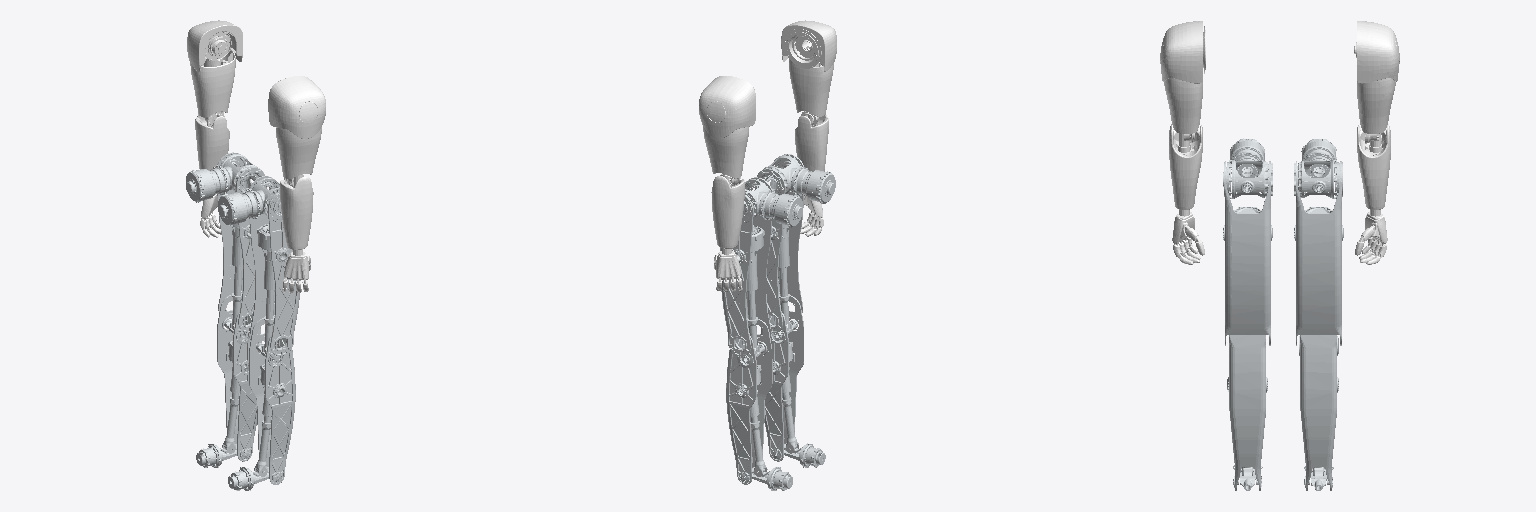
The robot description file, URDF, robot "jumping_robot_ry":
<?xml version="1.0" encoding="utf-8"?>
<!-- This URDF was automatically created by SolidWorks to URDF Exporter! Originally created by [author] ([email redacted]) 
     Commit Version: 1.6.0-1-g15f4949  Build Version: 1.6.7594.29634
     For more information, please see http://wiki.ros.org/sw_urdf_exporter -->
<robot
  name="jumping_robot_ry">


  <link
    name="trunk">
    <inertial>
      <origin
        xyz="-0.00534187421003305 0.00675403772049716 0.11861929306466"
        rpy="0 0 0" />
      <mass
        value="20.9913292790793" />
      <inertia
        ixx="0.148687583146669"
        ixy="1.44334501358702E-05"
        ixz="0.000481125697587423"
        iyy="0.0853076437183973"
        iyz="7.39327481754481E-05"
        izz="0.167987780612291" />
    </inertial>
    <visual>
      <origin
        xyz="0 0 0"
        rpy="0 0 0" />
      <geometry>
        <mesh
          filename="package://jumping_robot_ry/meshes/trunk.STL" />
      </geometry>
      <material
        name="">
        <color
          rgba="0.898039215686275 0.917647058823529 0.929411764705882 1" />
      </material>
    </visual>
    <!--collision>
      <origin
        xyz="0 0 0"
        rpy="0 0 0" />
      <geometry>
        <mesh
          filename="package://jumping_robot_ry/meshes/trunk.STL" />
      </geometry>
    </collision-->
  </link>
  <link
    name="arm_left">
    <inertial>
      <origin
        xyz="0.17129877806023 0.000442710996981722 0.00603783167995214"
        rpy="0 0 0" />
      <mass
        value="1.52221564938983" />
      <inertia
        ixx="0.00234673757443052"
        ixy="-3.97819853083177E-05"
        ixz="9.20794087459447E-05"
        iyy="0.00356004785927338"
        iyz="5.93569290406546E-07"
        izz="0.00422659625710183" />
    </inertial>
    <visual>
      <origin
        xyz="0 0 0"
        rpy="0 0 0" />
      <geometry>
        <mesh
          filename="package://jumping_robot_ry/meshes/arm_left.STL" />
      </geometry>
      <material
        name="">
        <color
          rgba="1 1 1 1" />
      </material>
    </visual>
    <!--collision>
      <origin
        xyz="0 0 0"
        rpy="0 0 0" />
      <geometry>
        <mesh
          filename="package://jumping_robot_ry/meshes/arm_left.STL" />
      </geometry>
    </collision-->
  </link>
  <joint
    name="shoulder_left"
    type="revolute">
    <origin
      xyz="-0.0101075147782717 0.257795843052775 0.165349999885798"
      rpy="-1.5707963267949 1.56712606042027 3.14159265358979" />
    <parent
      link="trunk" />
    <child
      link="arm_left" />
    <axis
      xyz="0 0 1" />
    <limit
      lower="-3.14"
      upper="3.14"
      effort="180"
      velocity="23.14" />
  </joint>
  <link
    name="arm_right">
    <inertial>
      <origin
        xyz="0.170556163823836 0.000375216296787542 -0.00633364188324859"
        rpy="0 0 0" />
      <mass
        value="1.52899552470419" />
      <inertia
        ixx="0.00234262157900753"
        ixy="-3.9198572572838E-05"
        ixz="-9.14877718499417E-05"
        iyy="0.00355935721293376"
        iyz="9.72463093561941E-07"
        izz="0.00422289490261943" />
    </inertial>
    <visual>
      <origin
        xyz="0 0 0"
        rpy="0 0 0" />
      <geometry>
        <mesh
          filename="package://jumping_robot_ry/meshes/arm_right.STL" />
      </geometry>
      <material
        name="">
        <color
          rgba="1 1 1 1" />
      </material>
    </visual>
    <!--collision>
      <origin
        xyz="0 0 0"
        rpy="0 0 0" />
      <geometry>
        <mesh
          filename="package://jumping_robot_ry/meshes/arm_right.STL" />
      </geometry>
    </collision-->
  </link>
  <joint
    name="shoulder_right"
    type="revolute">
    <origin
      xyz="-0.0101075147782718 -0.257199156940497 0.165349999885798"
      rpy="-1.5707963267949 1.56712606042021 3.14159265358979" />
    <parent
      link="trunk" />
    <child
      link="arm_right" />
    <axis
      xyz="0 0 -1" />
    <limit
      lower="-3.14"
      upper="3.14"
      effort="180"
      velocity="23.14" />
  </joint>
  <link
    name="hip_left">
    <inertial>
      <origin
        xyz="0.000264789253374809 0.00227805357561411 -0.0517419332665672"
        rpy="0 0 0" />
      <mass
        value="2.77226286740998" />
      <inertia
        ixx="0.0023049484140908"
        ixy="-1.09491711506034E-06"
        ixz="-1.89821568178048E-06"
        iyy="0.00278714724661066"
        iyz="1.49357955164055E-05"
        izz="0.00265411614232658" />
    </inertial>
    <visual>
      <origin
        xyz="0 0 0"
        rpy="0 0 0" />
      <geometry>
        <mesh
          filename="package://jumping_robot_ry/meshes/hip_left.STL" />
      </geometry>
      <material
        name="">
        <color
          rgba="0.898039215686275 0.917647058823529 0.929411764705882 1" />
      </material>
    </visual>
    <!--collision>
      <origin
        xyz="0 0 0"
        rpy="0 0 0" />
      <geometry>
        <mesh
          filename="package://jumping_robot_ry/meshes/hip_left.STL" />
      </geometry>
    </collision-->
  </link>
  <joint
    name="hip_left_x"
    type="revolute">
    <origin
      xyz="-0.000306223726313573 0.105707340365802 -0.214000000121042"
      rpy="-2.74895393765495 1.56498843183028 -2.74895989990149" />
    <parent
      link="trunk" />
    <child
      link="hip_left" />
    <axis
      xyz="0.00536591255347294 0 -0.999985603387603" />
    <limit
      lower="-3.14"
      upper="3.14"
      effort="180"
      velocity="23.14" />
  </joint>
  <link
    name="thigh_left">
    <inertial>
      <origin
        xyz="0.204287895415817 0.0124777468787662 0.000500837159686032"
        rpy="0 0 0" />
      <mass
        value="2.24457308468349" />
      <inertia
        ixx="0.00442080408642017"
        ixy="-0.000245782570070354"
        ixz="4.50972346570301E-05"
        iyy="0.0213102863092215"
        iyz="3.30972136111353E-06"
        izz="0.020009524590657" />
    </inertial>
    <visual>
      <origin
        xyz="0 0 0"
        rpy="0 0 0" />
      <geometry>
        <mesh
          filename="package://jumping_robot_ry/meshes/thigh_left.STL" />
      </geometry>
      <material
        name="">
        <color
          rgba="0.898039215686275 0.917647058823529 0.929411764705882 1" />
      </material>
    </visual>
    <!--collision>
      <origin
        xyz="0 0 0"
        rpy="0 0 0" />
      <geometry>
        <mesh
          filename="package://jumping_robot_ry/meshes/thigh_left.STL" />
      </geometry>
    </collision-->
  </link>
  <joint
    name="hip_left_y"
    type="revolute">
    <origin
      xyz="0 0 0"
      rpy="1.57078440237293 0 0" />
    <parent
      link="hip_left" />
    <child
      link="thigh_left" />
    <axis
      xyz="0.00222221677924413 0 0.999997530873244" />
    <limit
      lower="-3.14"
      upper="3.14"
      effort="180"
      velocity="23.14" />
  </joint>
  <link
    name="calf_left">
    <inertial>
      <origin
        xyz="0.181032784199706 0.00565154362853779 -0.00098246193057594"
        rpy="0 0 0" />
      <mass
        value="1.75714585360334" />
      <inertia
        ixx="0.0024402417815786"
        ixy="4.6598038769428E-05"
        ixz="4.37580326523052E-06"
        iyy="0.0176434835873506"
        iyz="6.29877407417103E-07"
        izz="0.0171561338288248" />
    </inertial>
    <visual>
      <origin
        xyz="0 0 0"
        rpy="0 0 0" />
      <geometry>
        <mesh
          filename="package://jumping_robot_ry/meshes/calf_left.STL" />
      </geometry>
      <material
        name="">
        <color
          rgba="0.898039215686275 0.917647058823529 0.929411764705882 1" />
      </material>
    </visual>
    <!--collision>
      <origin
        xyz="0 0 0"
        rpy="0 0 0" />
      <geometry>
        <mesh
          filename="package://jumping_robot_ry/meshes/calf_left.STL" />
      </geometry>
    </collision-->
  </link>
  <joint
    name="knee_left"
    type="revolute">
    <origin
      xyz="0.45000111110981 0 0"
      rpy="0 0.00222221714763328 0.00114653302611344" />
    <parent
      link="thigh_left" />
    <child
      link="calf_left" />
    <axis
      xyz="0 0 1" />
    <limit
      lower="-3.14"
      upper="3.14"
      effort="180"
      velocity="23.14" />
  </joint>
  <link
    name="ankle_left">
    <inertial>
      <origin
        xyz="-0.000291440769667146 -0.0684593324204074 -0.000437809199314396"
        rpy="0 0 0" />
      <mass
        value="0.426454571289873" />
      <inertia
        ixx="0.000255094335803803"
        ixy="-1.25868946739572E-06"
        ixz="-2.10382379615869E-07"
        iyy="0.000154854293219585"
        iyz="1.04671610648939E-07"
        izz="0.000252474732545182" />
    </inertial>
    <visual>
      <origin
        xyz="0 0 0"
        rpy="0 0 0" />
      <geometry>
        <mesh
          filename="package://jumping_robot_ry/meshes/ankle_left.STL" />
      </geometry>
      <material
        name="">
        <color
          rgba="0.898039215686275 0.917647058823529 0.929411764705882 1" />
      </material>
    </visual>
    <!--collision>
      <origin
        xyz="0 0 0"
        rpy="0 0 0" />
      <geometry>
        <mesh
          filename="package://jumping_robot_ry/meshes/ankle_left.STL" />
      </geometry>
    </collision-->
  </link>
  <joint
    name="ankle_left_y"
    type="revolute">
    <origin
      xyz="0.449999999999998 0 0"
      rpy="0 0 -2.45516141042258E-05" />
    <parent
      link="calf_left" />
    <child
      link="ankle_left" />
    <axis
      xyz="0 0 -1" />
    <limit
      lower="-3.14"
      upper="3.14"
      effort="180"
      velocity="23.14" />
  </joint>
  <link
    name="foot_left">
    <inertial>
      <origin
        xyz="0.0590531834572885 -0.000380316917685058 0.0199411900252325"
        rpy="0 0 0" />
      <mass
        value="1.17881866734593" />
      <inertia
        ixx="0.00491833304250234"
        ixy="-4.29169770328228E-06"
        ixz="4.81265004807637E-05"
        iyy="0.0041746135663407"
        iyz="4.8097178220184E-05"
        izz="0.000947864437557165" />
    </inertial>
    <visual>
      <origin
        xyz="0 0 0"
        rpy="0 0 0" />
      <geometry>
        <mesh
          filename="package://jumping_robot_ry/meshes/foot_left.STL" />
      </geometry>
      <material
        name="">
        <color
          rgba="0.898039215686275 0.917647058823529 0.929411764705882 1" />
      </material>
    </visual>
    <!--collision>
      <origin
        xyz="0 0 0"
        rpy="0 0 0" />
      <geometry>
        <mesh
          filename="package://jumping_robot_ry/meshes/foot_left.STL" />
      </geometry>
    </collision-->
  </link>
  <joint
    name="ankle_left_x"
    type="revolute">
    <origin
      xyz="0 0 0"
      rpy="-1.5707963267949 0.0181093582985449 0" />
    <parent
      link="ankle_left" />
    <child
      link="foot_left" />
    <axis
      xyz="0 0 -1" />
    <limit
      lower="-3.14"
      upper="3.14"
      effort="180"
      velocity="23.14" />
  </joint>
  <link
    name="hip_right">
    <inertial>
      <origin
        xyz="-3.77763681014276E-06 -0.00227882137697191 -0.0517485653331689"
        rpy="0 0 0" />
      <mass
        value="2.77194420190797" />
      <inertia
        ixx="0.00230482428849897"
        ixy="-6.70310353240918E-08"
        ixz="-3.70150028742793E-08"
        iyy="0.00278711231133902"
        iyz="-1.49675088112007E-05"
        izz="0.00265407493550054" />
    </inertial>
    <visual>
      <origin
        xyz="0 0 0"
        rpy="0 0 0" />
      <geometry>
        <mesh
          filename="package://jumping_robot_ry/meshes/hip_right.STL" />
      </geometry>
      <material
        name="">
        <color
          rgba="0.898039215686275 0.917647058823529 0.929411764705882 1" />
      </material>
    </visual>
    <!--collision>
      <origin
        xyz="0 0 0"
        rpy="0 0 0" />
      <geometry>
        <mesh
          filename="package://jumping_robot_ry/meshes/hip_right.STL" />
      </geometry>
    </collision-->
  </link>
  <joint
    name="hip_right_x"
    type="revolute">
    <origin
      xyz="-0.000306223726313174 -0.0872016569640492 -0.214000000119806"
      rpy="0 1.5707963267949 0" />
    <parent
      link="trunk" />
    <child
      link="hip_right" />
    <axis
      xyz="0 0 -1" />
    <limit
      lower="-3.14"
      upper="3.14"
      effort="180"
      velocity="23.14" />
  </joint>
  <link
    name="thigh_right">
    <inertial>
      <origin
        xyz="0.204156519435908 0.0124833192151274 -0.000565342116547213"
        rpy="0 0 0" />
      <mass
        value="2.24425664830097" />
      <inertia
        ixx="0.00442143540006333"
        ixy="-0.000241684269493795"
        ixz="-3.35800335081255E-05"
        iyy="0.0213361331501482"
        iyz="-1.17414169375432E-06"
        izz="0.0200349718214162" />
    </inertial>
    <visual>
      <origin
        xyz="0 0 0"
        rpy="0 0 0" />
      <geometry>
        <mesh
          filename="package://jumping_robot_ry/meshes/thigh_right.STL" />
      </geometry>
      <material
        name="">
        <color
          rgba="0.898039215686275 0.917647058823529 0.929411764705882 1" />
      </material>
    </visual>
    <!--collision>
      <origin
        xyz="0 0 0"
        rpy="0 0 0" />
      <geometry>
        <mesh
          filename="package://jumping_robot_ry/meshes/thigh_right.STL" />
      </geometry>
    </collision-->
  </link>
  <joint
    name="hip_right_y"
    type="revolute">
    <origin
      xyz="0 0 0"
      rpy="1.57080825121687 0.00536593827613417 0.0022222506020442" />
    <parent
      link="hip_right" />
    <child
      link="thigh_right" />
    <axis
      xyz="0.00222221678013116 0 -0.999997530873243" />
    <limit
      lower="-3.14"
      upper="3.14"
      effort="180"
      velocity="23.14" />
  </joint>
  <link
    name="calf_right">
    <inertial>
      <origin
        xyz="0.182607646122486 0.00618307409075586 0.000139878803573787"
        rpy="0 0 0" />
      <mass
        value="1.77439208129268" />
      <inertia
        ixx="0.00243748122119386"
        ixy="1.28737931584282E-05"
        ixz="-1.9935549628628E-06"
        iyy="0.0176413053722856"
        iyz="-1.02205579439283E-06"
        izz="0.0171504337257521" />
    </inertial>
    <visual>
      <origin
        xyz="0 0 0"
        rpy="0 0 0" />
      <geometry>
        <mesh
          filename="package://jumping_robot_ry/meshes/calf_right.STL" />
      </geometry>
      <material
        name="">
        <color
          rgba="0.898039215686275 0.917647058823529 0.929411764705882 1" />
      </material>
    </visual>
    <!--collision>
      <origin
        xyz="0 0 0"
        rpy="0 0 0" />
      <geometry>
        <mesh
          filename="package://jumping_robot_ry/meshes/calf_right.STL" />
      </geometry>
    </collision-->
  </link>
  <joint
    name="knee_right"
    type="revolute">
    <origin
      xyz="0.45000111111102 0 0"
      rpy="0 -0.00222221731158092 -0.00108064028281444" />
    <parent
      link="thigh_right" />
    <child
      link="calf_right" />
    <axis
      xyz="0 0 -1" />
    <limit
      lower="-3.14"
      upper="3.14"
      effort="180"
      velocity="23.14" />
  </joint>
  <link
    name="ankle_right">
    <inertial>
      <origin
        xyz="-0.000291429067652622 -0.068459354200451 0.00043780751005959"
        rpy="0 0 0" />
      <mass
        value="0.426454169205949" />
      <inertia
        ixx="0.000255093688828037"
        ixy="-1.2588042428273E-06"
        ixz="2.102668652936E-07"
        iyy="0.000154854163685299"
        iyz="-1.04747467108972E-07"
        izz="0.000252474140759807" />
    </inertial>
    <visual>
      <origin
        xyz="0 0 0"
        rpy="0 0 0" />
      <geometry>
        <mesh
          filename="package://jumping_robot_ry/meshes/ankle_right.STL" />
      </geometry>
      <material
        name="">
        <color
          rgba="0.898039215686275 0.917647058823529 0.929411764705882 1" />
      </material>
    </visual>
    <!--collision>
      <origin
        xyz="0 0 0"
        rpy="0 0 0" />
      <geometry>
        <mesh
          filename="package://jumping_robot_ry/meshes/ankle_right.STL" />
      </geometry>
    </collision-->
  </link>
  <joint
    name="ankle_right_y"
    type="revolute">
    <origin
      xyz="0.449001113584365 0 0"
      rpy="0 0 0.00220261619564081" />
    <parent
      link="calf_right" />
    <child
      link="ankle_right" />
    <axis
      xyz="0 0 1" />
    <limit
      lower="-3.14"
      upper="3.14"
      effort="180"
      velocity="23.14" />
  </joint>
  <link
    name="foot_right">
    <inertial>
      <origin
        xyz="0.0590550454849722 0.000380265162191501 0.0199340670780957"
        rpy="0 0 0" />
      <mass
        value="1.1788830860114" />
      <inertia
        ixx="0.00491831496054419"
        ixy="4.30924527043072E-06"
        ixz="4.80811366164594E-05"
        iyy="0.00417457553292186"
        iyz="-4.80981954126129E-05"
        izz="0.000947871401809516" />
    </inertial>
    <visual>
      <origin
        xyz="0 0 0"
        rpy="0 0 0" />
      <geometry>
        <mesh
          filename="package://jumping_robot_ry/meshes/foot_right.STL" />
      </geometry>
      <material
        name="">
        <color
          rgba="0.898039215686275 0.917647058823529 0.929411764705882 1" />
      </material>
    </visual>
    <!--collision>
      <origin
        xyz="0 0 0"
        rpy="0 0 0" />
      <geometry>
        <mesh
          filename="package://jumping_robot_ry/meshes/foot_right.STL" />
      </geometry>
    </collision-->
  </link>
  <joint
    name="ankle_right_x"
    type="revolute">
    <origin
      xyz="0 0 0"
      rpy="-1.5707963267949 -0.0228520501419932 0" />
    <parent
      link="ankle_right" />
    <child
      link="foot_right" />
    <axis
      xyz="0 0 -1" />
    <limit
      lower="-3.14"
      upper="3.14"
      effort="180"
      velocity="23.14" />
  </joint>
</robot>

--- Render facts (derived) ---
3 views of the same robot in one strip: view 1: azimuth 30°, elevation 25°; view 2: azimuth 150°, elevation 25°; view 3: azimuth 270°, elevation 25° (orthographic).
Model jumping_robot_ry with 13 links and 12 joints (12 revolute), rooted at trunk, posed all joints at 0.
Links seen in each view (by area): view 1: arm_right, arm_left, calf_right, thigh_right, calf_left, thigh_left, hip_left, hip_right, ankle_right, ankle_left; view 2: arm_left, arm_right, calf_left, thigh_left, calf_right, thigh_right, hip_right, hip_left, ankle_right, ankle_left; view 3: arm_right, arm_left, thigh_right, thigh_left, calf_left, calf_right, hip_right, hip_left.
Link boxes in pixels (x1,y1,x2,y2): arm_right: [268, 76, 325, 292]; arm_left: [187, 20, 242, 237]; calf_right: [249, 318, 295, 484]; thigh_right: [249, 176, 300, 355]; calf_left: [217, 295, 261, 461]; thigh_left: [217, 152, 266, 332]; hip_left: [186, 153, 261, 202]; hip_right: [218, 178, 282, 225]; ankle_right: [228, 466, 281, 490]; ankle_left: [196, 443, 249, 467]; arm_left: [699, 76, 755, 291]; arm_right: [781, 20, 836, 236]; calf_left: [726, 319, 772, 484]; thigh_left: [720, 177, 771, 356]; calf_right: [759, 295, 803, 461]; thigh_right: [755, 154, 803, 332]; hip_right: [759, 155, 835, 203]; hip_left: [742, 179, 803, 227]; ankle_right: [772, 442, 825, 467]; ankle_left: [740, 466, 792, 490]; arm_right: [1160, 21, 1205, 264]; arm_left: [1354, 21, 1399, 264]; thigh_right: [1223, 161, 1272, 345]; thigh_left: [1294, 161, 1343, 345]; calf_left: [1299, 335, 1338, 490]; calf_right: [1227, 335, 1267, 490]; hip_right: [1223, 138, 1272, 198]; hip_left: [1294, 139, 1342, 198].
Size in the robot's own frame: 0.2509 by 0.6438 by 1.39 metres.
Meshes: 13 distinct files referenced, 10 mesh visuals loaded (10 binary STL); not drawn: 3 (reference not matched to a file when rendering).
